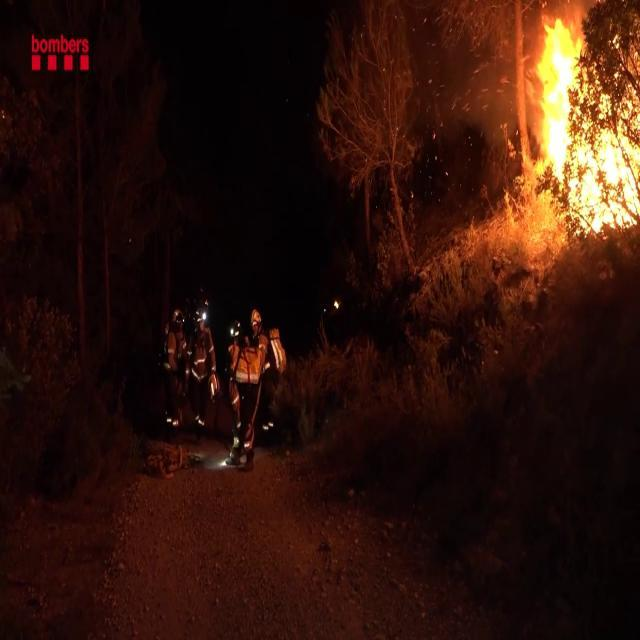Fire: (525, 8, 640, 232)
